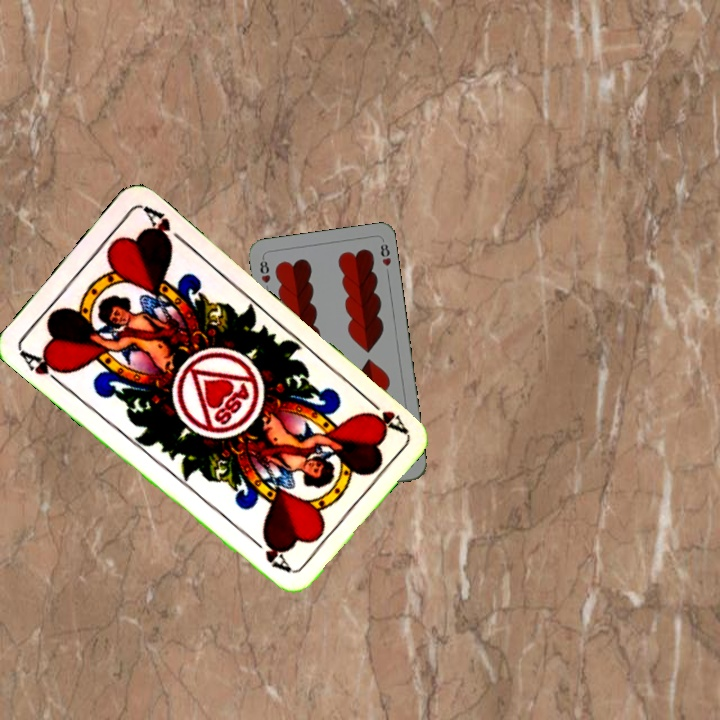H8: (256, 254, 273, 286)
HA: (16, 346, 69, 389), (359, 391, 409, 436)
